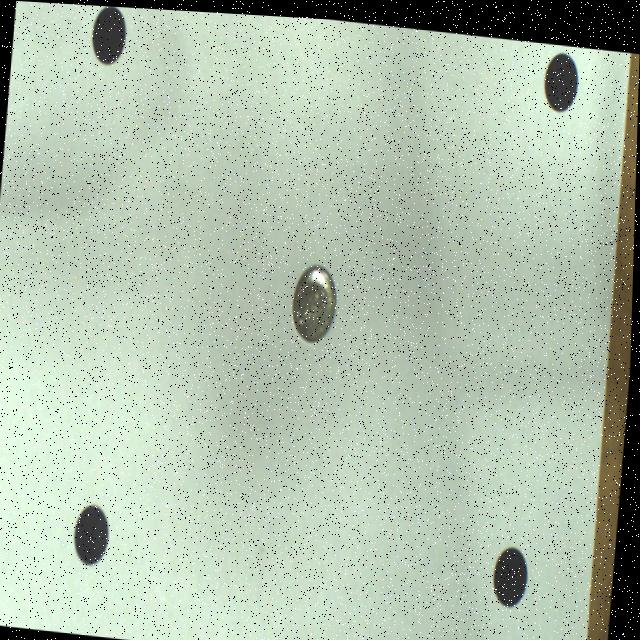space: (544, 46, 579, 106), (77, 503, 112, 563), (92, 5, 127, 64), (497, 540, 530, 602)
tail1bath: (294, 262, 337, 339)
